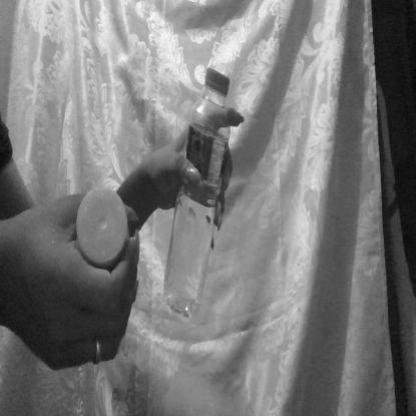Plastic Bottle: (166, 49, 259, 365)
